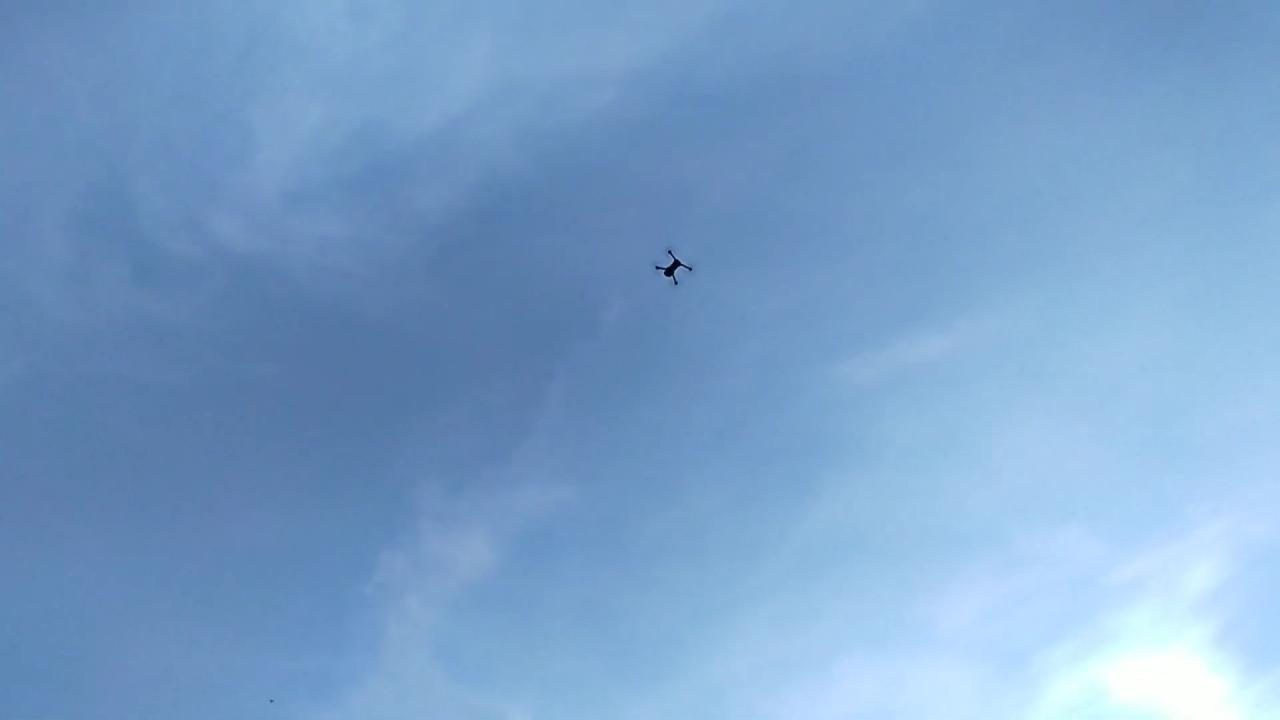Drone: (642, 241, 701, 294)
